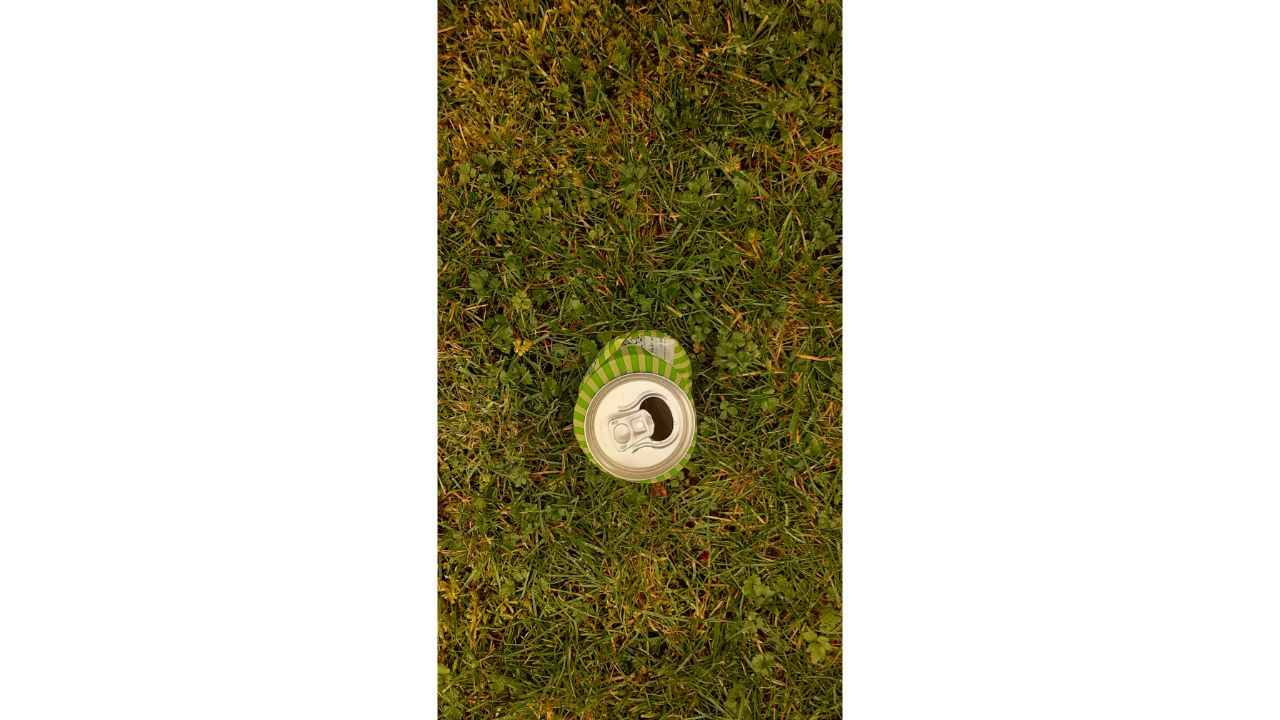Can: (573, 329, 696, 485)
